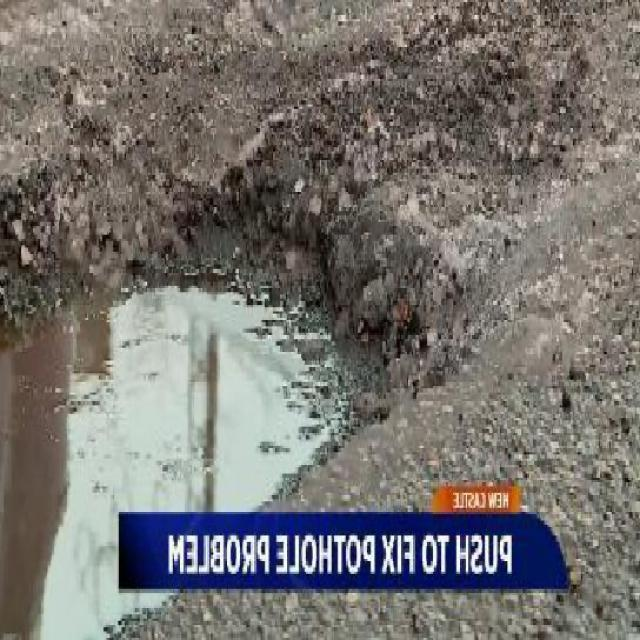pothole: (0, 126, 480, 640)
